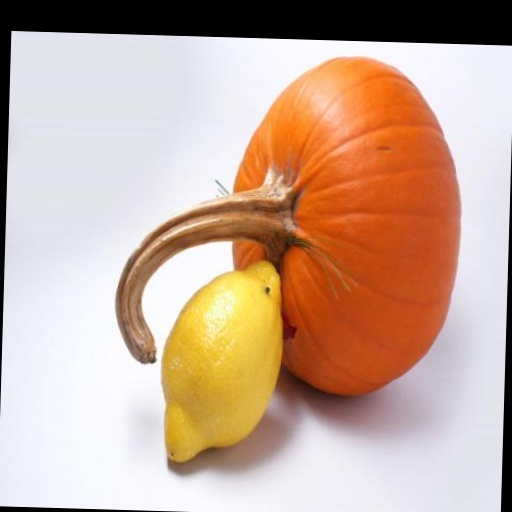fruit: (116, 58, 460, 394), (162, 261, 281, 461)
